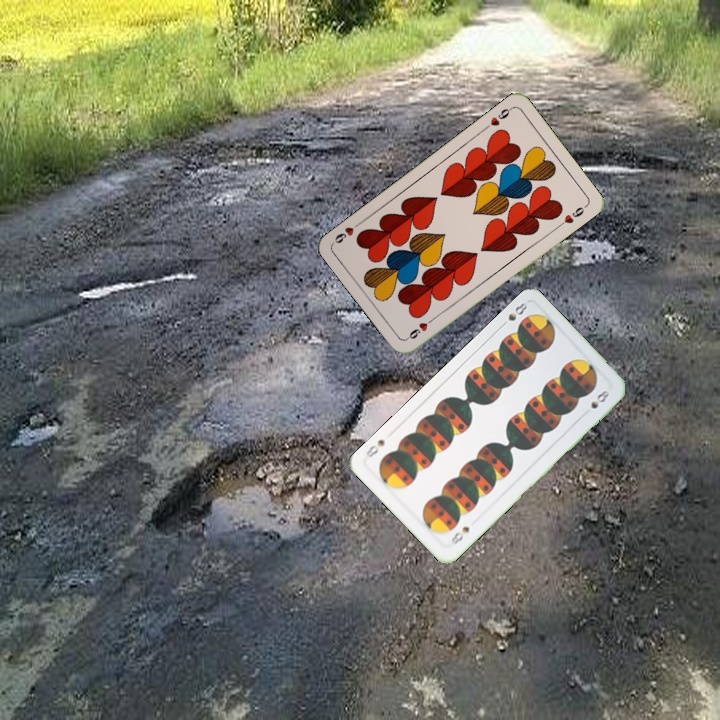H9: (480, 103, 515, 132), (403, 313, 438, 342)
S8: (496, 299, 530, 330), (446, 522, 473, 547)
